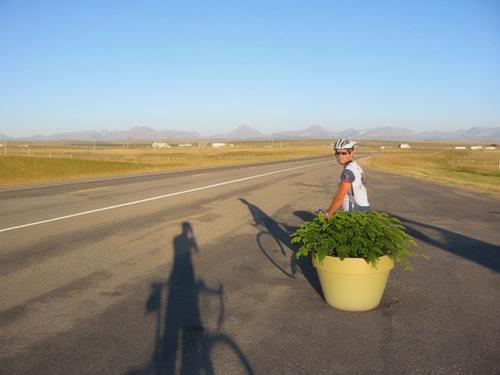person: (323, 141, 370, 308)
person/foot: (331, 296, 354, 305)
person/hand: (322, 213, 333, 223)
person/head: (334, 139, 354, 163)
pottedplant: (291, 211, 429, 310)
